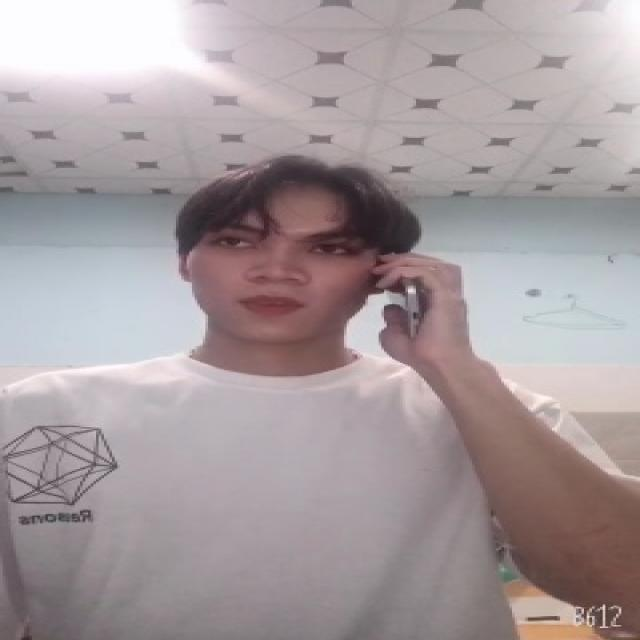Phone: (381, 268, 430, 351)
